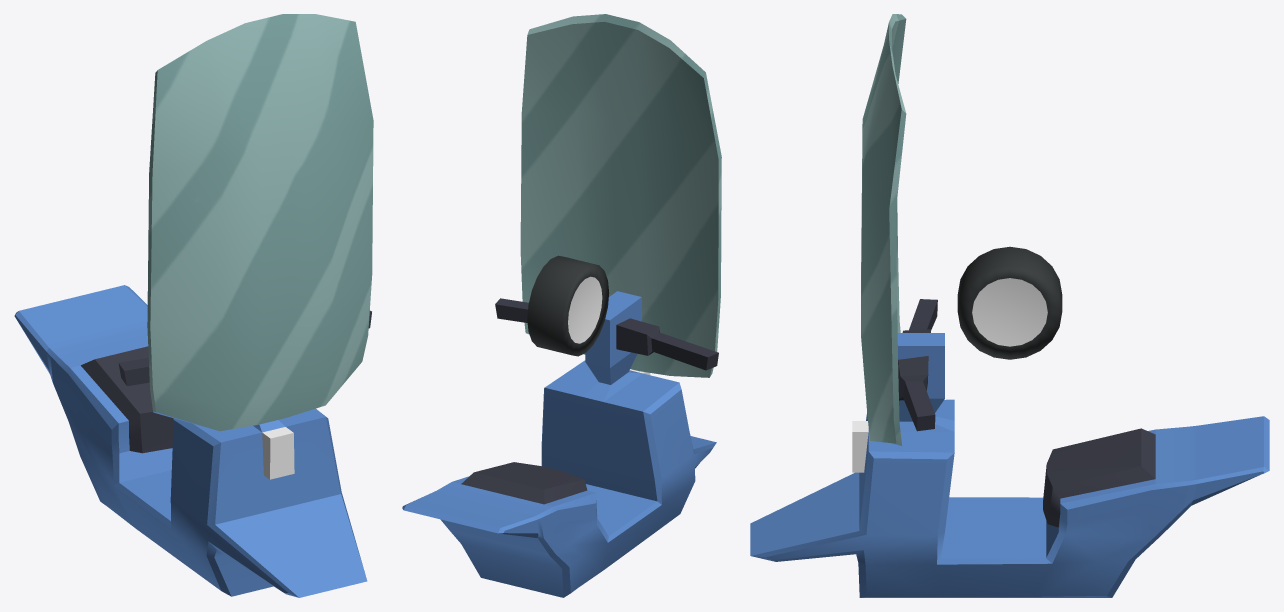
Rendered from scooter 1 blue.fbx.
3 renders of one model, left to right at view 1: azimuth 30°, elevation 25°; view 2: azimuth 150°, elevation 25°; view 3: azimuth 270°, elevation 25°, orthographic. The views are drawn at different scales.
Parts seen in each view (by area): view 1: scooter_1_blue; view 2: scooter_1_blue, scooter_1_blue_wheel; view 3: scooter_1_blue, scooter_1_blue_wheel.
Part boxes in pixels (x1=…): scooter_1_blue: x1=14, y1=14, x2=373, y2=597; scooter_1_blue: x1=402, y1=14, x2=721, y2=597; scooter_1_blue_wheel: x1=527, y1=255, x2=608, y2=356; scooter_1_blue: x1=750, y1=14, x2=1269, y2=597; scooter_1_blue_wheel: x1=957, y1=246, x2=1062, y2=359.
Size of the model in its own units: 55.02 by 118 by 102.
